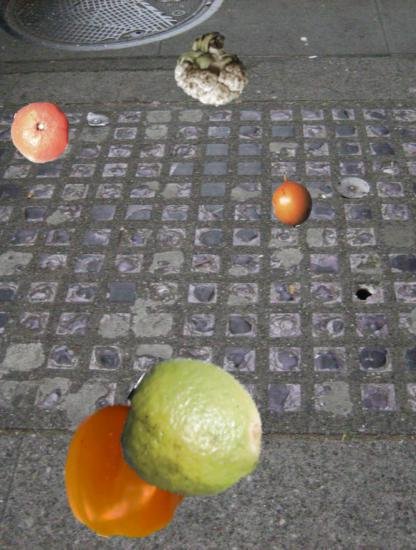Cauliflower: (173, 30, 250, 107)
Clementine: (10, 100, 74, 164)
Granadilla: (264, 172, 319, 227)
Limes: (120, 358, 267, 505)
Pepper: (58, 400, 199, 541)
